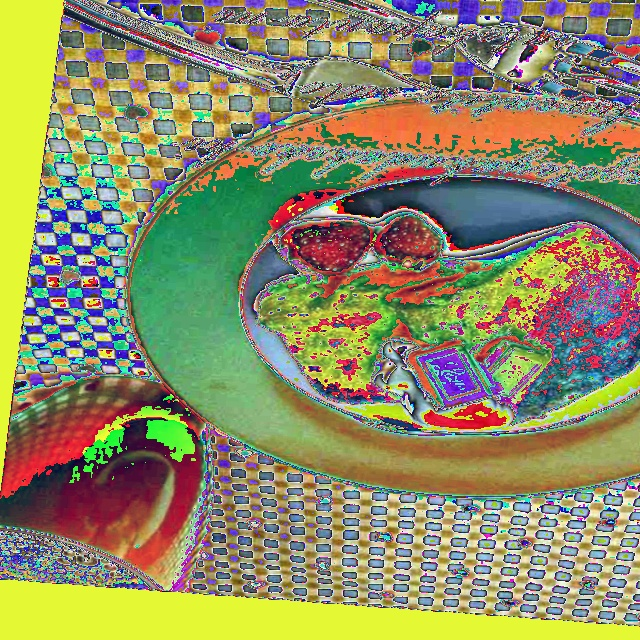background: (258, 213, 639, 430), (0, 58, 152, 589)
